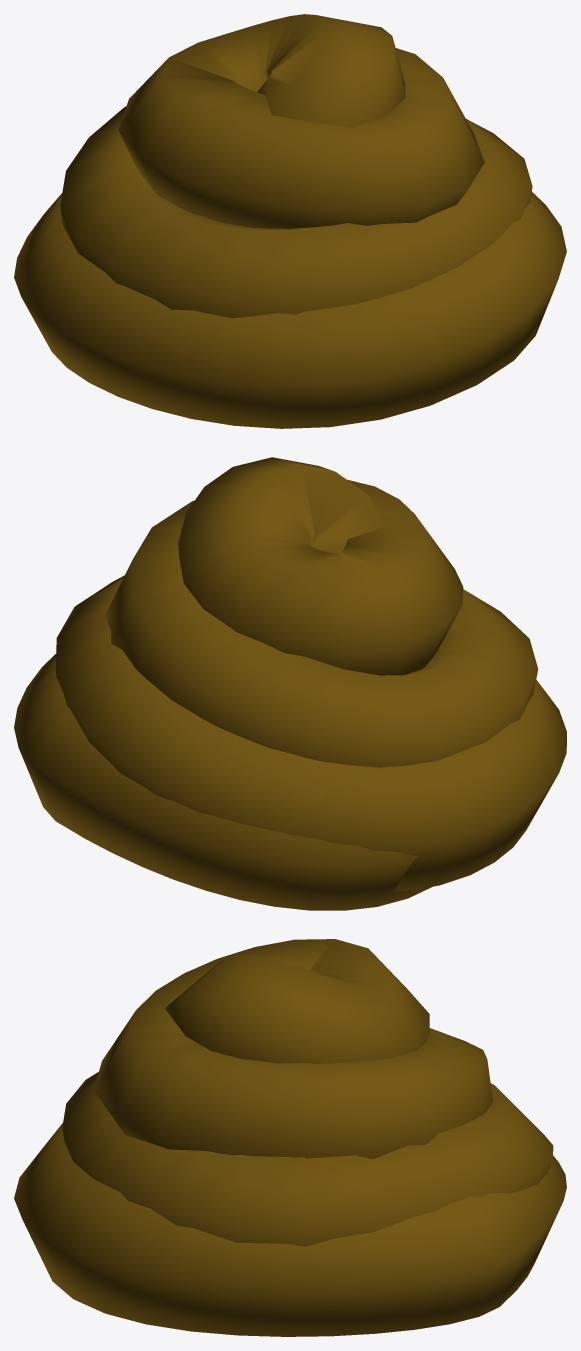
Rendered from Turd.fbx.
3 renders of one model, top to bottom at view 1: azimuth 30°, elevation 25°; view 2: azimuth 150°, elevation 25°; view 3: azimuth 270°, elevation 25°, orthographic. The views are drawn at different scales.
Parts seen in each view (by area): view 1: BezierCurve.003; view 2: BezierCurve.003; view 3: BezierCurve.003.
Part boxes in pixels (<box>): BezierCurve.003: <box>14,14,566,428</box>; BezierCurve.003: <box>14,457,566,910</box>; BezierCurve.003: <box>14,939,566,1336</box>.
Bounding box in the file's own units: 777 × 509 × 784.
